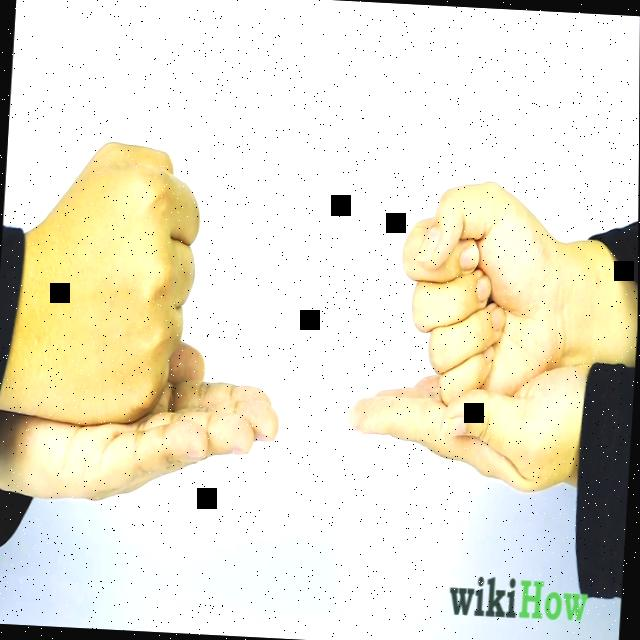Rock: (9, 133, 205, 431), (393, 173, 572, 408)
